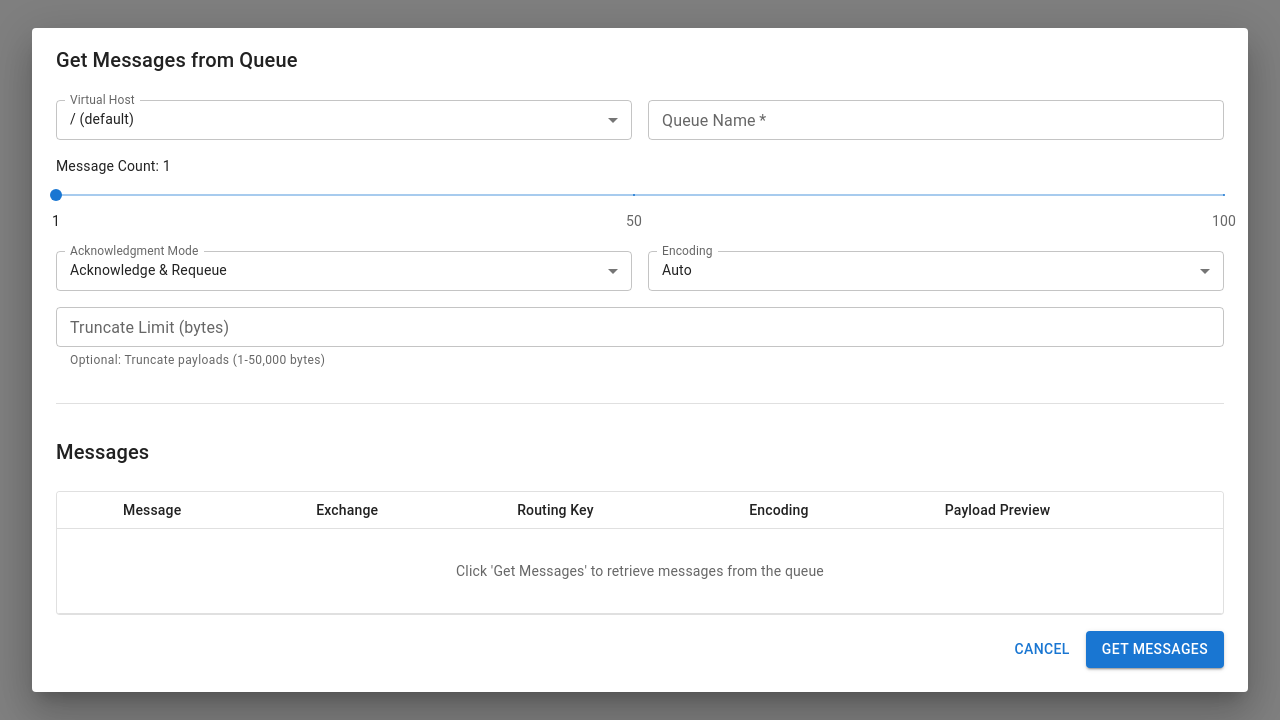
Test case: GetMessagesDialog › validates queue name format
The width and height of the screenshot is (1280, 720).
Check: the heading "Get Messages from Queue" is shown, box x1=56 y1=48 x2=298 y2=72
Type "invalid queue name!" into the field labelled "Queue Name *".
click(936, 120); type("invalid queue name!")  # box x1=648 y1=100 x2=1224 y2=140
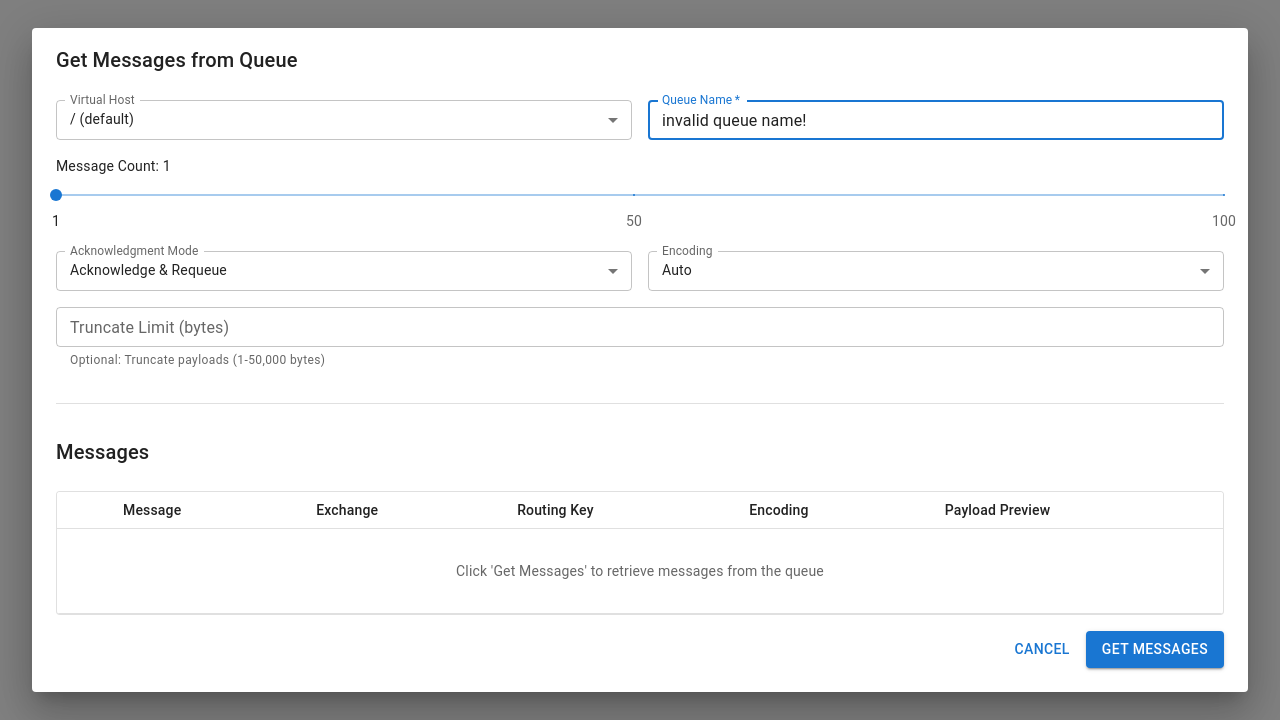
Click the button "Get Messages".
click(1155, 649)  # box x1=1086 y1=631 x2=1224 y2=668
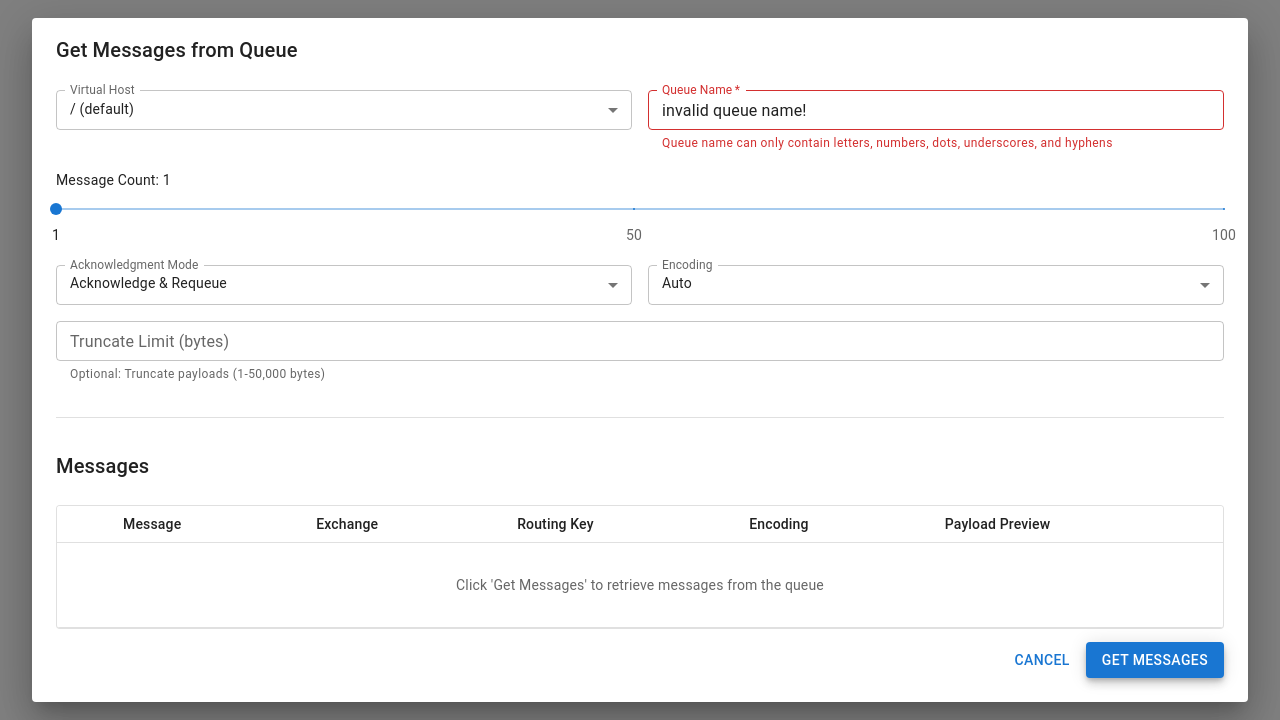
Check: the text "Queue name can only contain letters, numbers, dots, underscores, and hyphens" is shown, box x1=662 y1=136 x2=1113 y2=150
